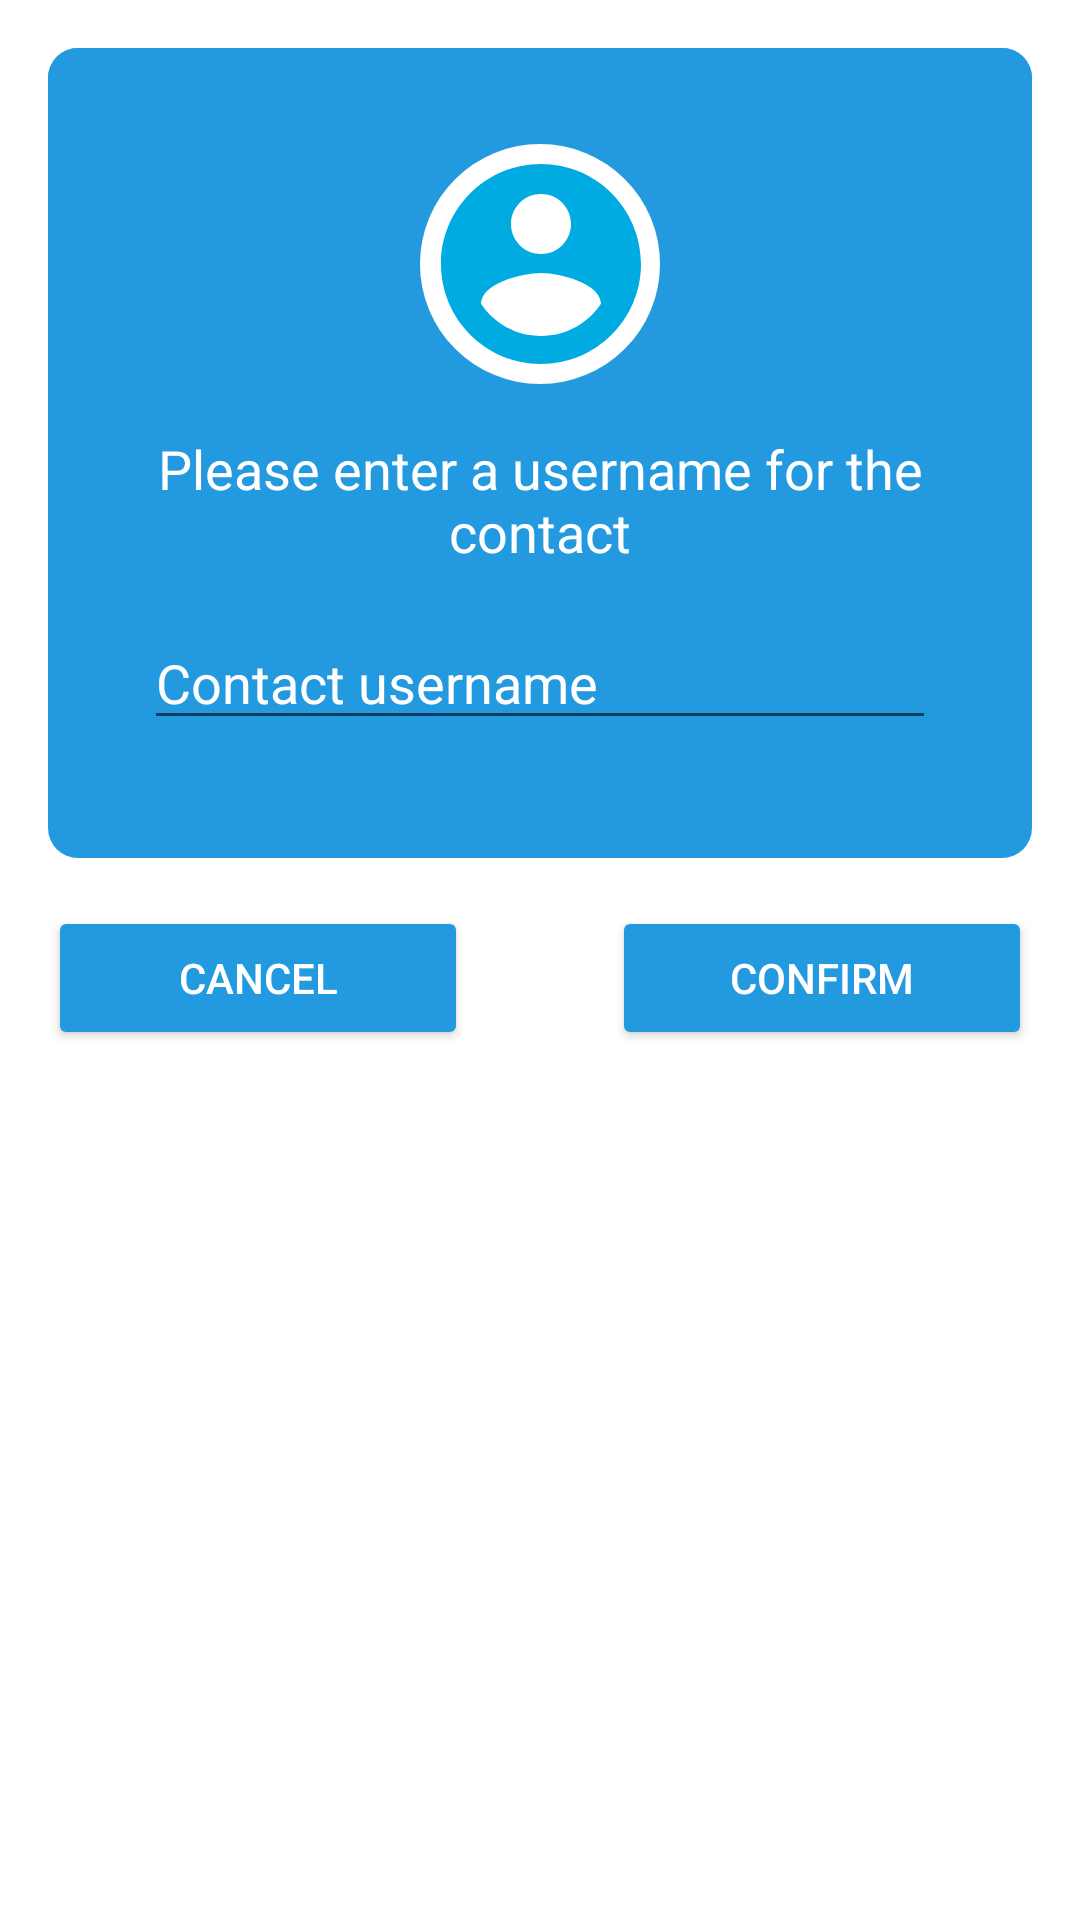

Where to tap for icons on this 1080*1920 app screen, as point (x, y):
account: point (540, 264)
